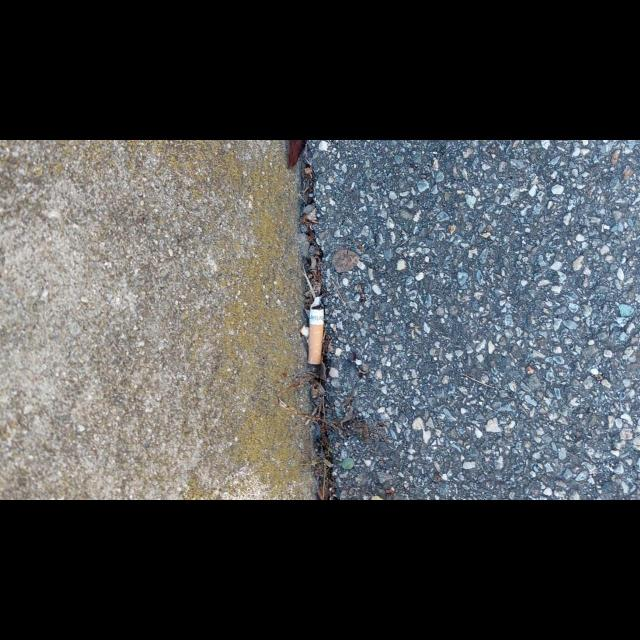cigarette: (307, 296, 325, 365)
